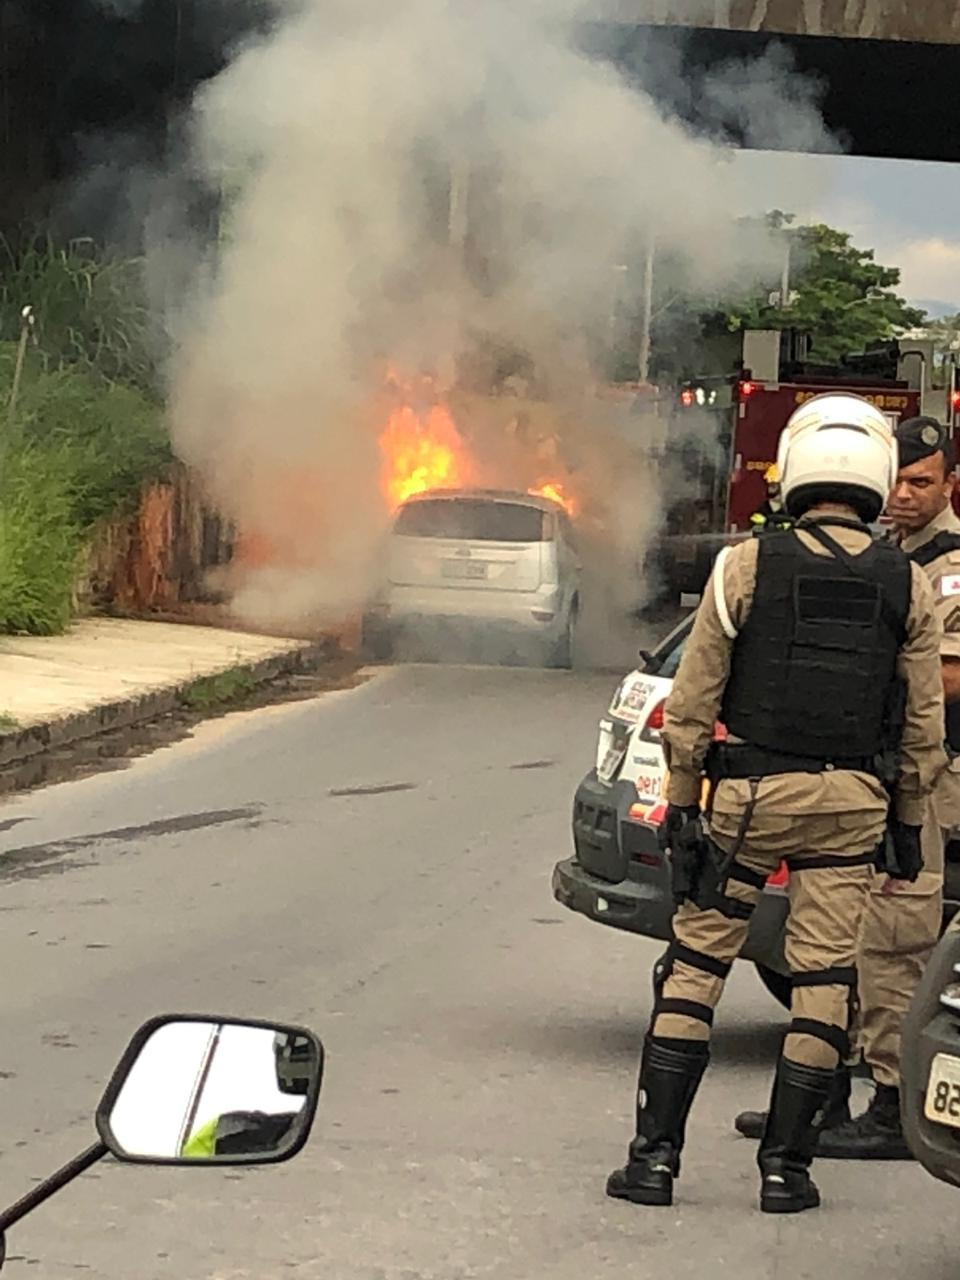Fire: (381, 360, 470, 507), (531, 481, 569, 511)
